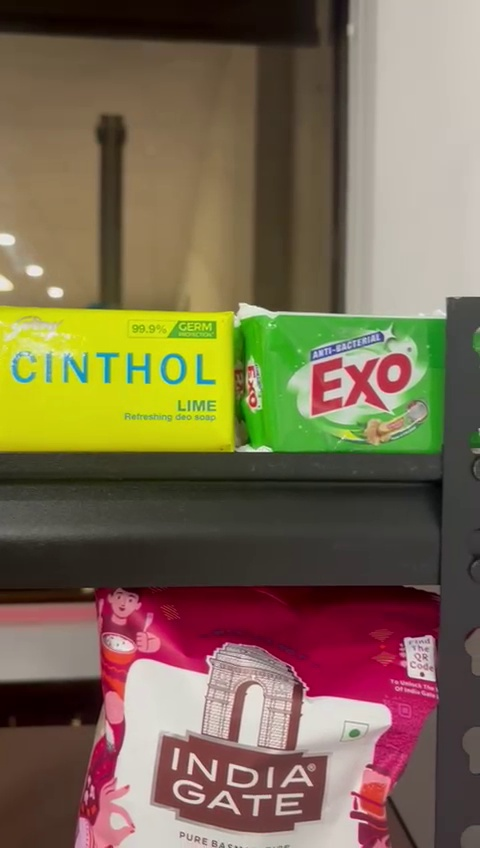Cinthol: (1, 308, 235, 452)
Exo Soap: (239, 313, 441, 456)
